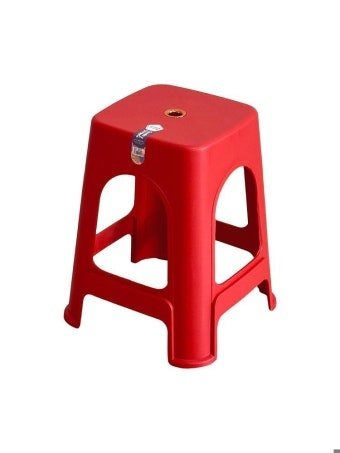plastic: (64, 83, 277, 367)
